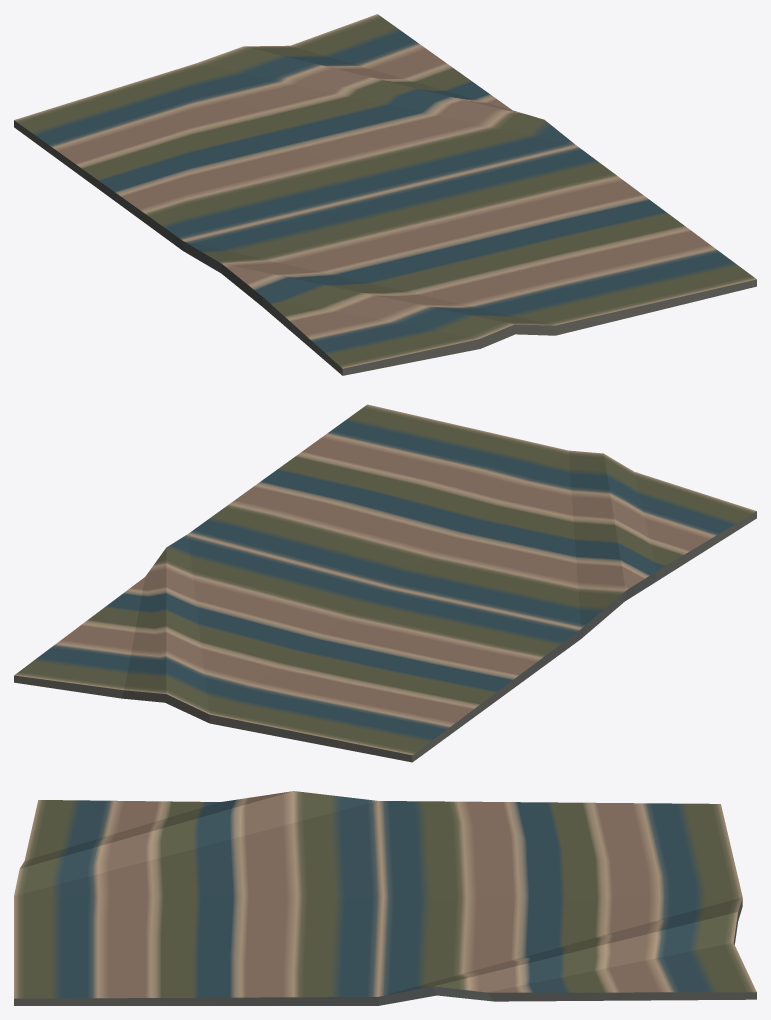
Rendered from SM_Prop_Rug_33.fbx.
The picture shows the model from 3 angles, top to bottom: view 1: azimuth 30°, elevation 25°; view 2: azimuth 150°, elevation 25°; view 3: azimuth 270°, elevation 25°; orthographic projection.
Visible parts, largest first — view 1: SM_Prop_Rug_33; view 2: SM_Prop_Rug_33; view 3: SM_Prop_Rug_33.
Boxes of the visible parts, x1,y1,x2,y2 form: SM_Prop_Rug_33: [14, 14, 756, 375]; SM_Prop_Rug_33: [14, 404, 756, 762]; SM_Prop_Rug_33: [14, 791, 756, 1005].
Bounding box in the file's own units: 196 × 9.08 × 310.
